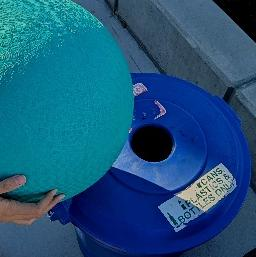algae: (0, 0, 126, 202)
